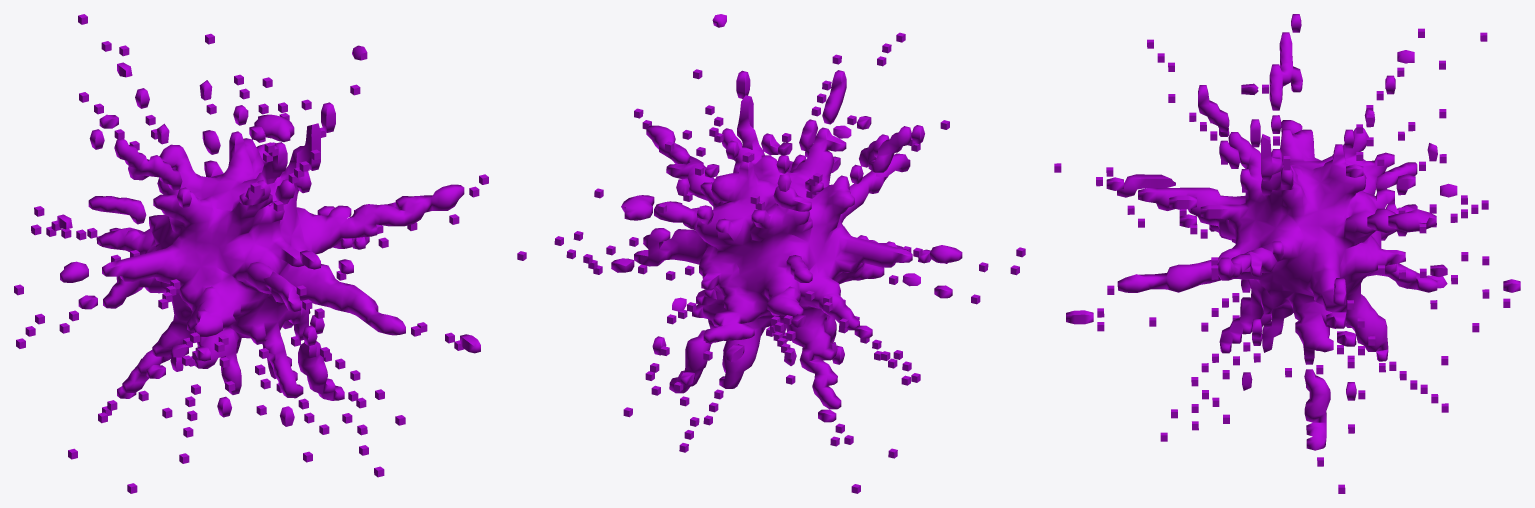
Rendered from tentaclesCracked.fbx.
The picture shows the model from 3 angles, left to right: view 1: azimuth 30°, elevation 25°; view 2: azimuth 150°, elevation 25°; view 3: azimuth 270°, elevation 25°; orthographic projection. The views are drawn at different scales.
Parts seen in each view (by area): view 1: Volume_Mesher; view 2: Volume_Mesher; view 3: Volume_Mesher.
Boxes of the visible parts, x1,y1,x2,y2 form: Volume_Mesher: (14, 14, 488, 493); Volume_Mesher: (517, 14, 1025, 493); Volume_Mesher: (1054, 14, 1520, 493).
Bounding box in the file's own units: 31.02 × 24.58 × 26.86.
